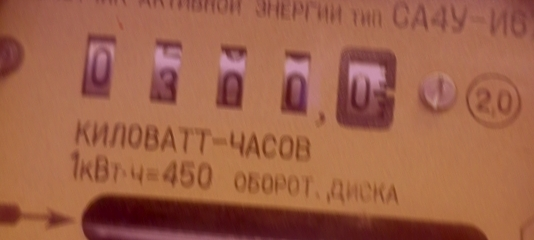0: (282, 69, 310, 114), (346, 69, 374, 114), (88, 42, 114, 90), (218, 67, 244, 110)
3: (154, 64, 179, 104)
screen: (59, 10, 419, 148)
